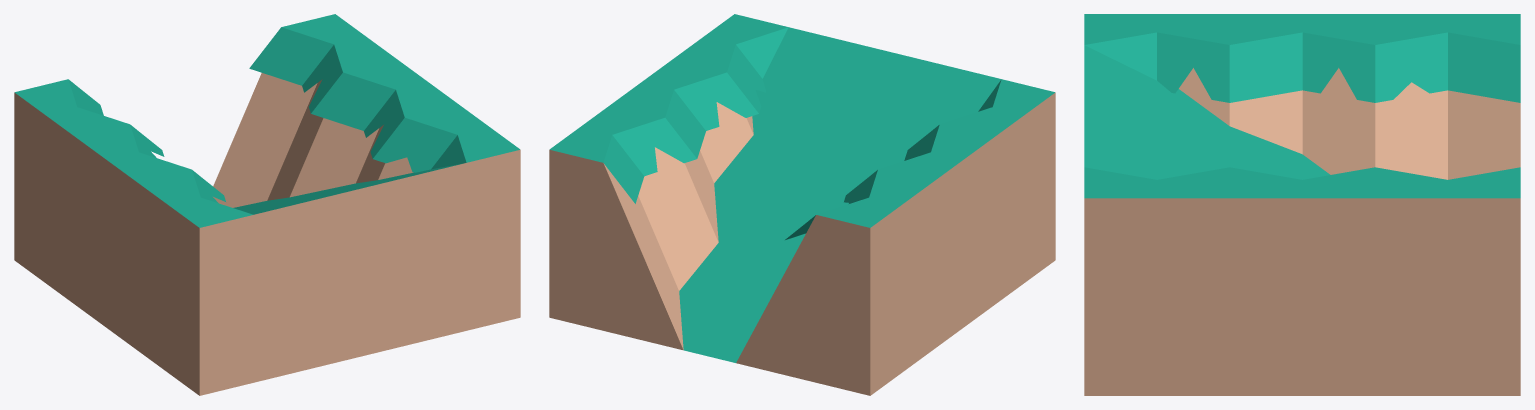
File: cliff_blockSlopeHalfWalls_rock.glb
The picture shows the model from 3 angles, left to right: view 1: azimuth 30°, elevation 25°; view 2: azimuth 150°, elevation 25°; view 3: azimuth 270°, elevation 25°; orthographic projection. The views are drawn at different scales.
Visible parts, largest first — view 1: cliff_blockSlopeHalfWalls_rock; view 2: cliff_blockSlopeHalfWalls_rock; view 3: cliff_blockSlopeHalfWalls_rock.
Part boxes in pixels (x1,y1,x2,y2): cliff_blockSlopeHalfWalls_rock: [14, 14, 520, 395]; cliff_blockSlopeHalfWalls_rock: [549, 14, 1055, 395]; cliff_blockSlopeHalfWalls_rock: [1084, 14, 1520, 395].
Size of the model in its own units: 1.16 by 0.5808 by 1.16.
